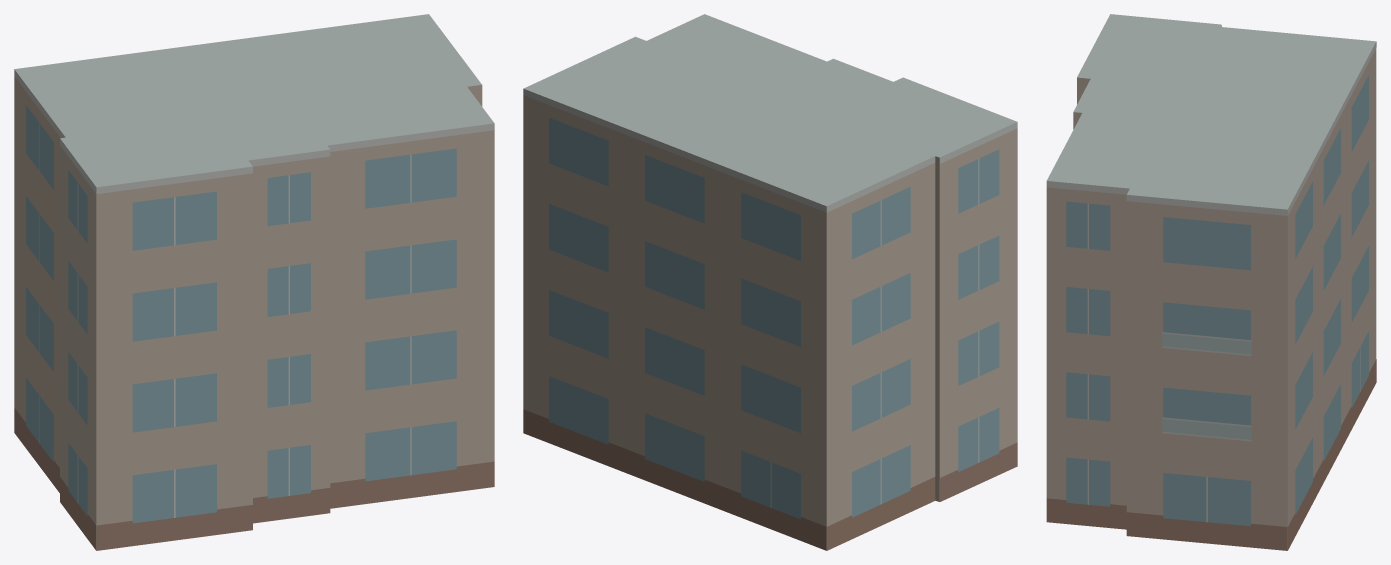
File: survey-upis-32682868.glb
3 views of the same model, side by side, from view 1: azimuth 30°, elevation 25°; view 2: azimuth 150°, elevation 25°; view 3: azimuth 270°, elevation 25° (orthographic). The views are drawn at different scales.
Parts seen in each view (by area): view 1: survey-upis-32682868.tmp; view 2: survey-upis-32682868.tmp; view 3: survey-upis-32682868.tmp.
Boxes of the visible parts, bbox=[...] form: survey-upis-32682868.tmp: bbox=[14, 14, 494, 550]; survey-upis-32682868.tmp: bbox=[523, 14, 1017, 550]; survey-upis-32682868.tmp: bbox=[1046, 14, 1376, 550].
Bounding box in the file's own units: 16.06 × 13.06 × 11.45.
